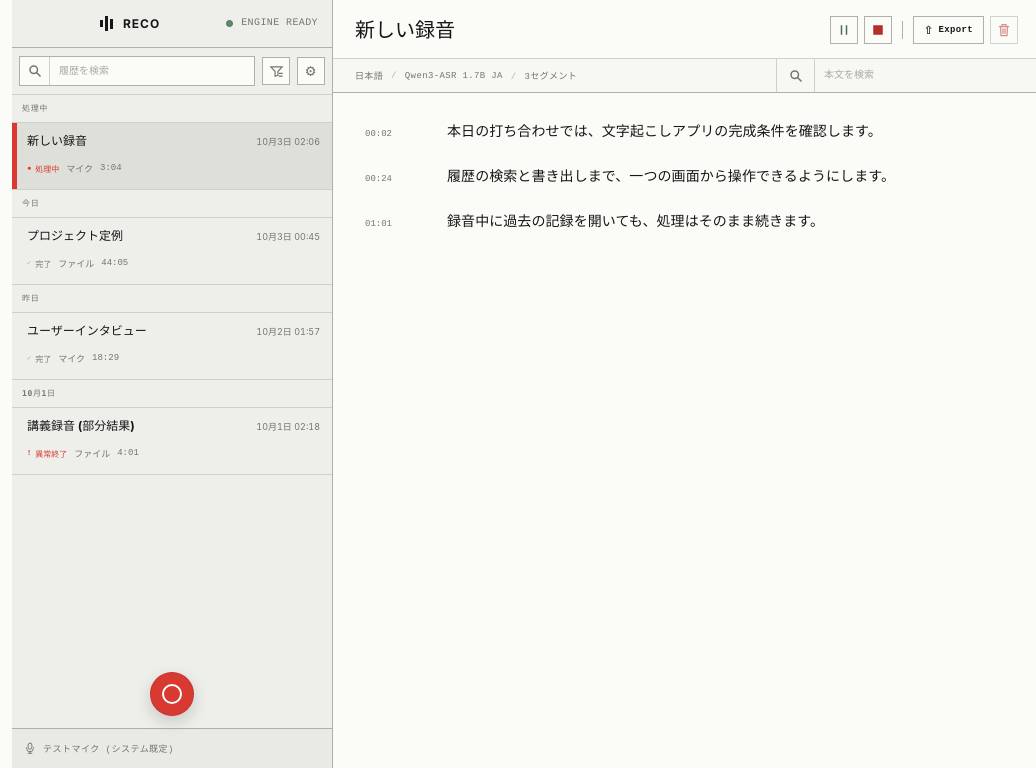
Test: RecoGUI › opens history filters from the toolbar and keeps the selected filter
Expected: the heading "新しい録音" is shown, [355, 18, 455, 42]
Click the button named "履歴のフィルタと並び替え" at [276, 71], box [262, 57, 290, 85]
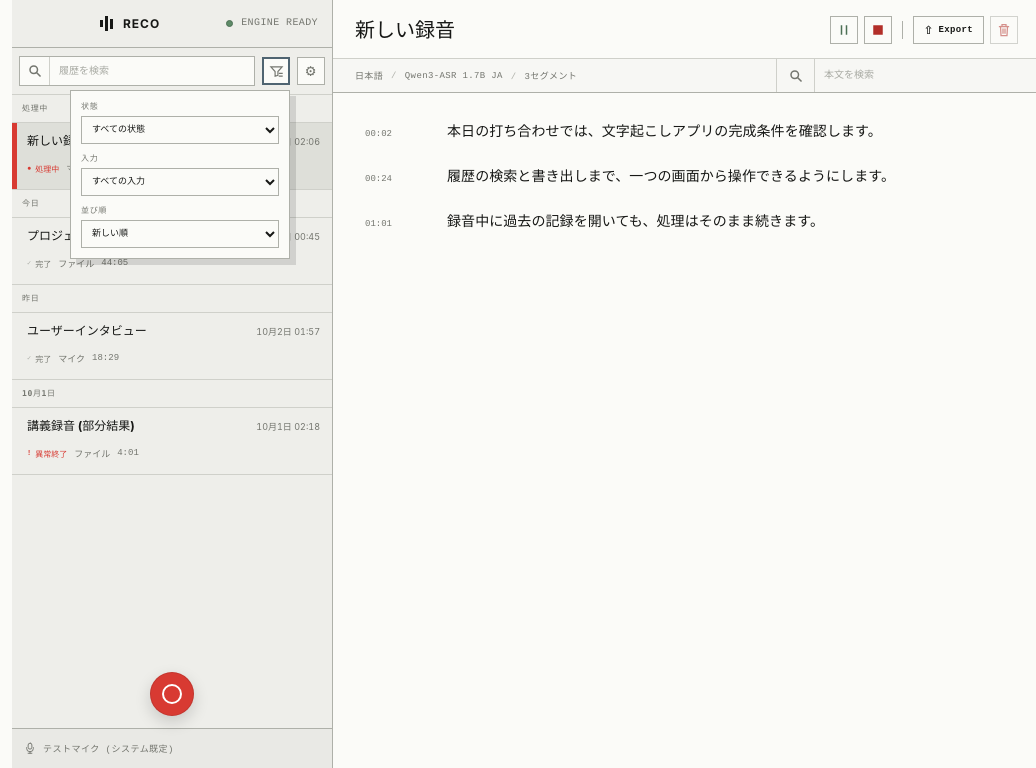
Select "完了" in the dropdown named "状態で絞り込み" at [180, 130], box [81, 116, 279, 144]
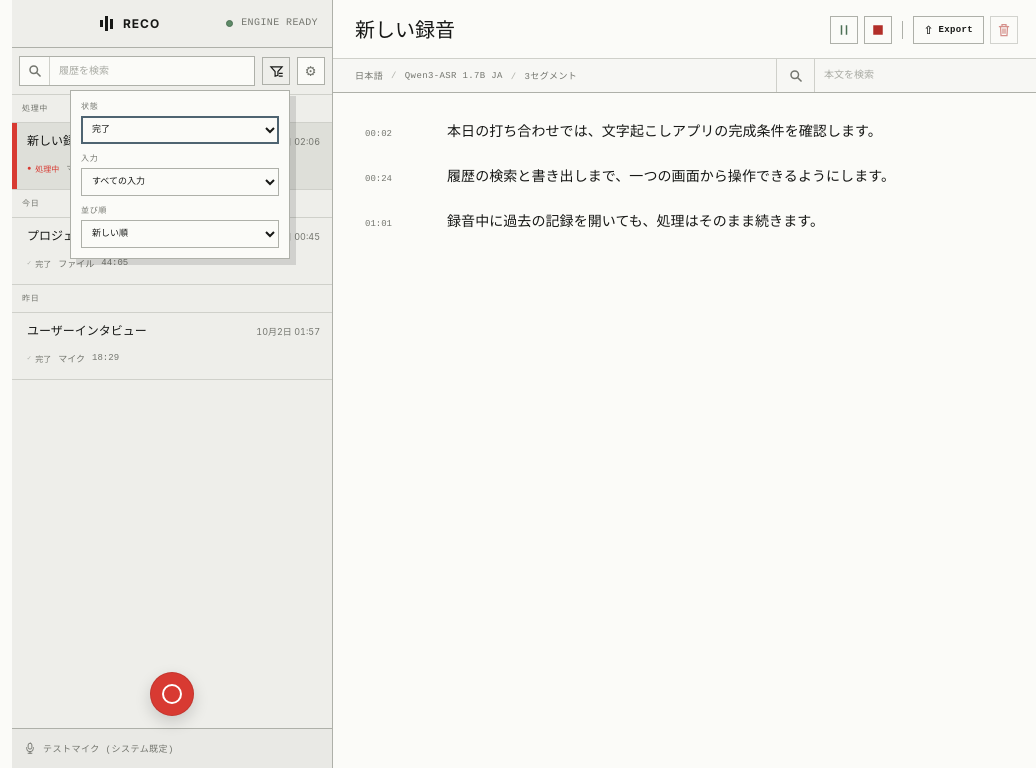
Select "デスクトップ音声" in the dropdown named "入力元で絞り込み" at [180, 182], box [81, 168, 279, 196]
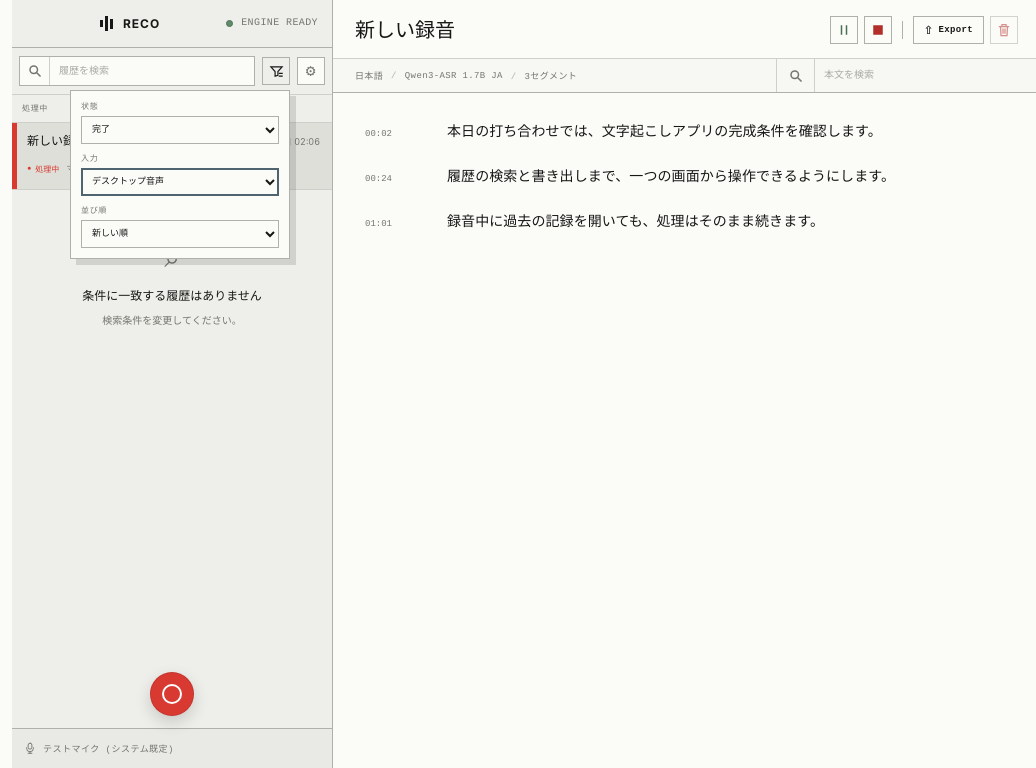
Now the button named "履歴のフィルタと並び替え" has class "active", box [262, 57, 290, 85]
Press Escape
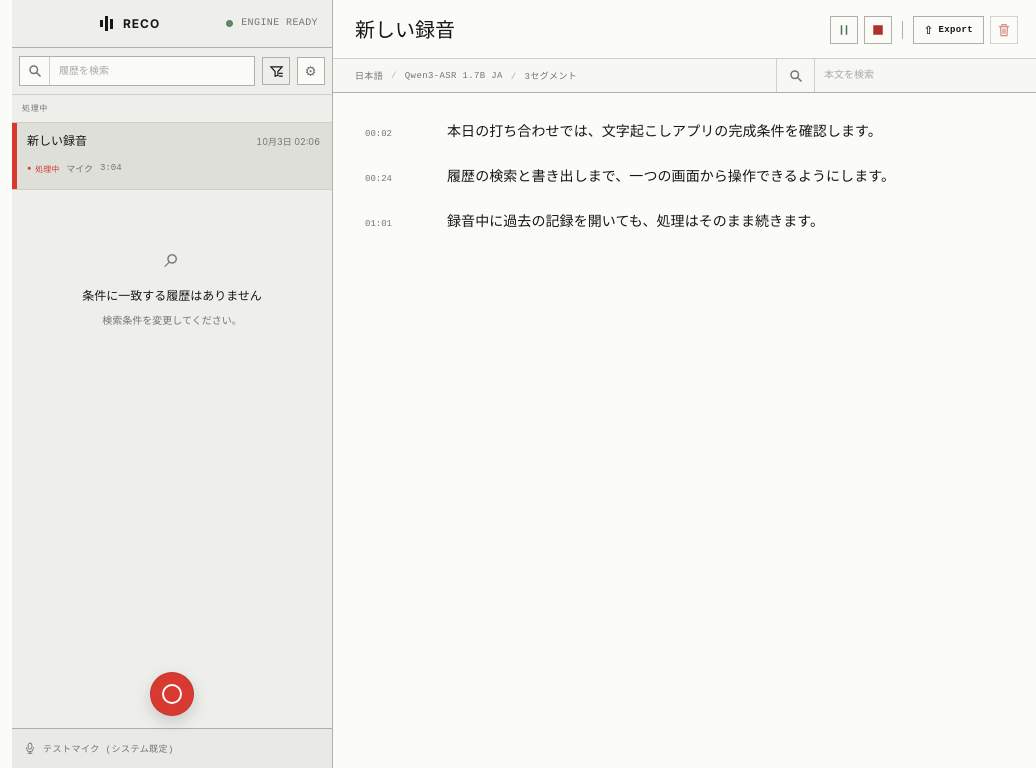
Now the dropdown labelled "状態で絞り込み" is gone
Click the button named "履歴のフィルタと並び替え" at [276, 71], box [262, 57, 290, 85]
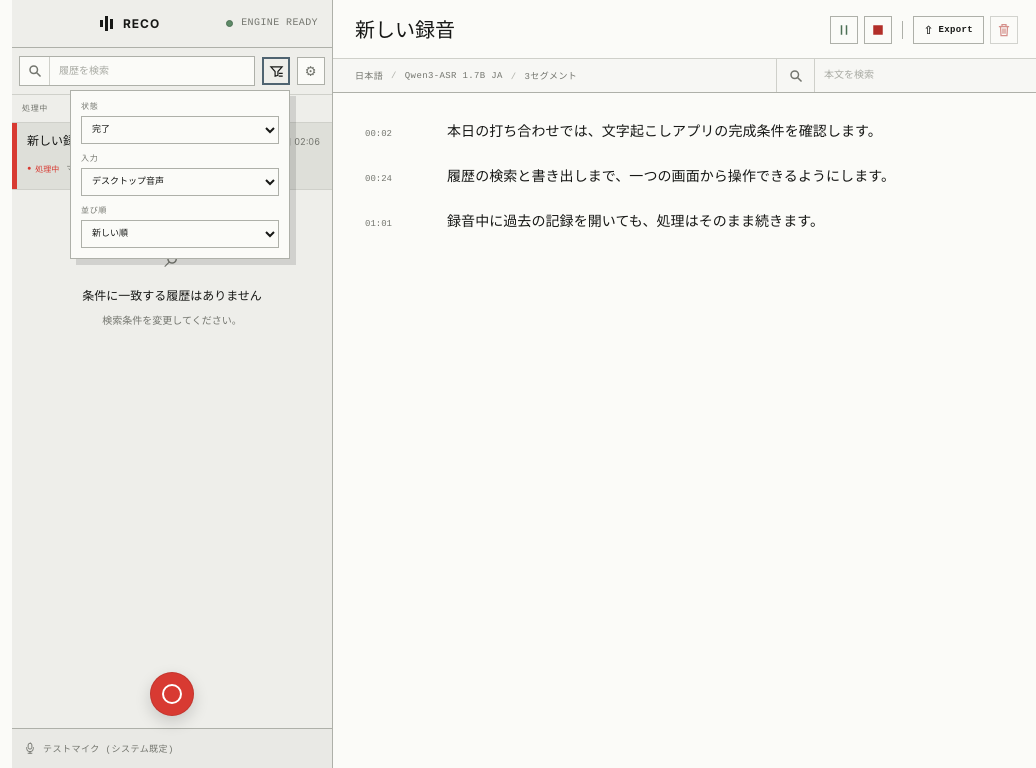
Now the dropdown named "状態で絞り込み" shows "完了", box [81, 116, 279, 144]
Now the dropdown named "入力元で絞り込み" shows "デスクトップ音声", box [81, 168, 279, 196]
